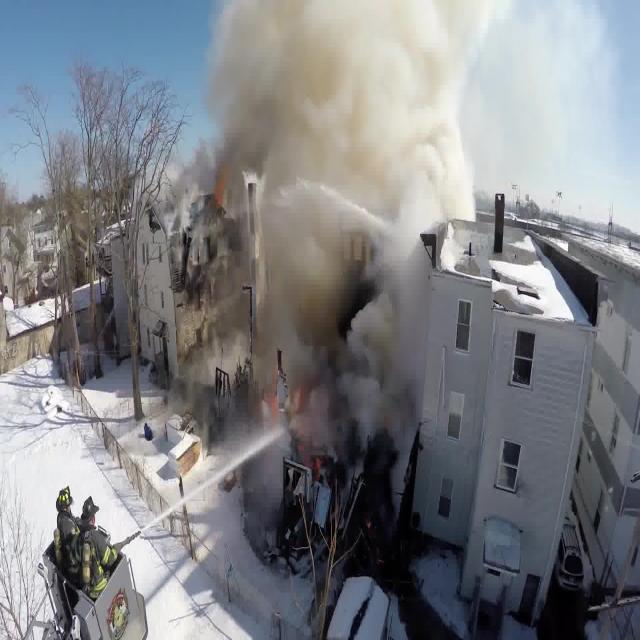Smoke: (208, 4, 477, 402)
